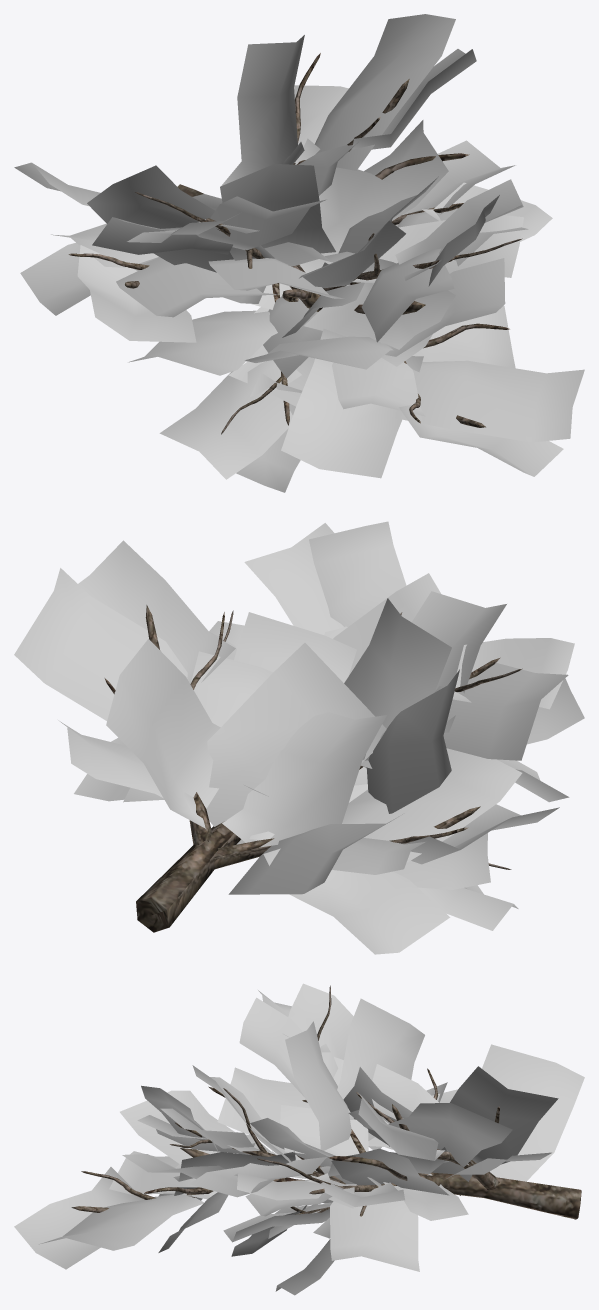
Rendered from SM_OakBranchLarge_1.fbx.
The picture shows the model from 3 angles, top to bottom: view 1: azimuth 30°, elevation 25°; view 2: azimuth 150°, elevation 25°; view 3: azimuth 270°, elevation 25°; orthographic projection. The views are drawn at different scales.
Visible parts, largest first — view 1: greenBranch_oak_large_1; view 2: greenBranch_oak_large_1; view 3: greenBranch_oak_large_1.
Part boxes in pixels (x1,y1,x2,y2): greenBranch_oak_large_1: [14, 14, 584, 492]; greenBranch_oak_large_1: [14, 521, 584, 954]; greenBranch_oak_large_1: [14, 983, 584, 1295].
Size of the model in its own units: 4.3 by 3.21 by 6.02.
